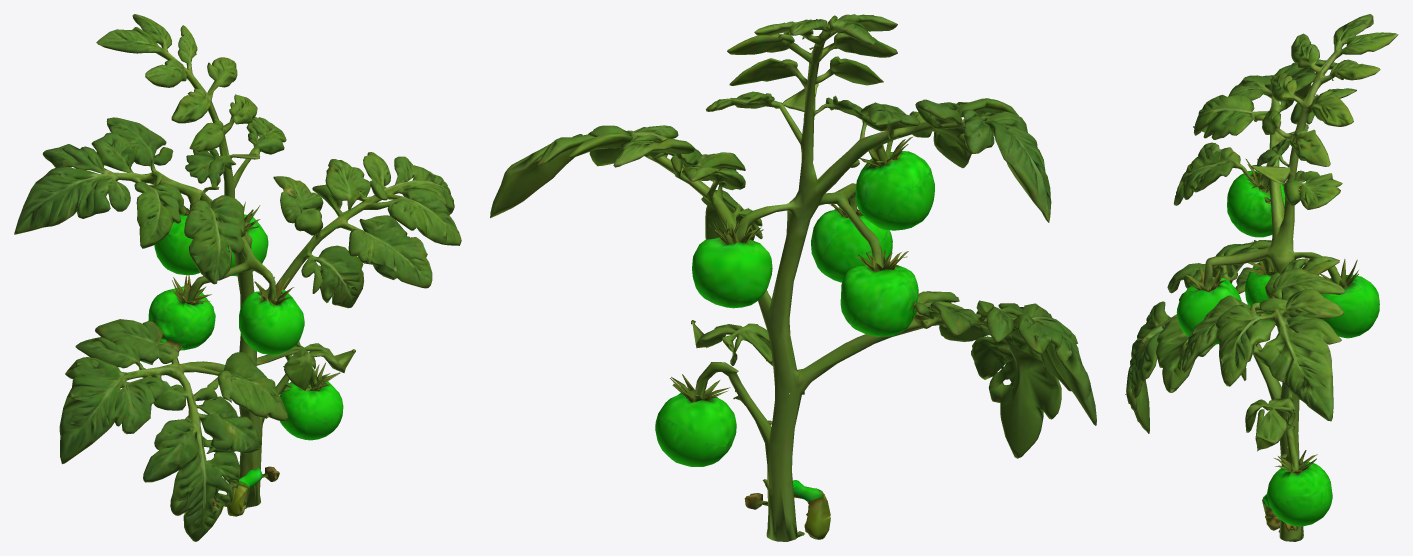
File: plant.glb
3 views of the same model, side by side, from view 1: azimuth 30°, elevation 25°; view 2: azimuth 150°, elevation 25°; view 3: azimuth 270°, elevation 25° (orthographic). The views are drawn at different scales.
Visible parts, largest first — view 1: tripo_node_3bbbd513-2202-42d7-8b89-8c7d50a52cc2; view 2: tripo_node_3bbbd513-2202-42d7-8b89-8c7d50a52cc2; view 3: tripo_node_3bbbd513-2202-42d7-8b89-8c7d50a52cc2.
Boxes of the visible parts, x1=… form: tripo_node_3bbbd513-2202-42d7-8b89-8c7d50a52cc2: x1=14, y1=14, x2=461, y2=541; tripo_node_3bbbd513-2202-42d7-8b89-8c7d50a52cc2: x1=490, y1=14, x2=1096, y2=541; tripo_node_3bbbd513-2202-42d7-8b89-8c7d50a52cc2: x1=1125, y1=14, x2=1398, y2=541.
Bounding box in the file's own units: 0.9768 × 0.9785 × 0.5101.
Materials: 1 (1 with a texture image).
